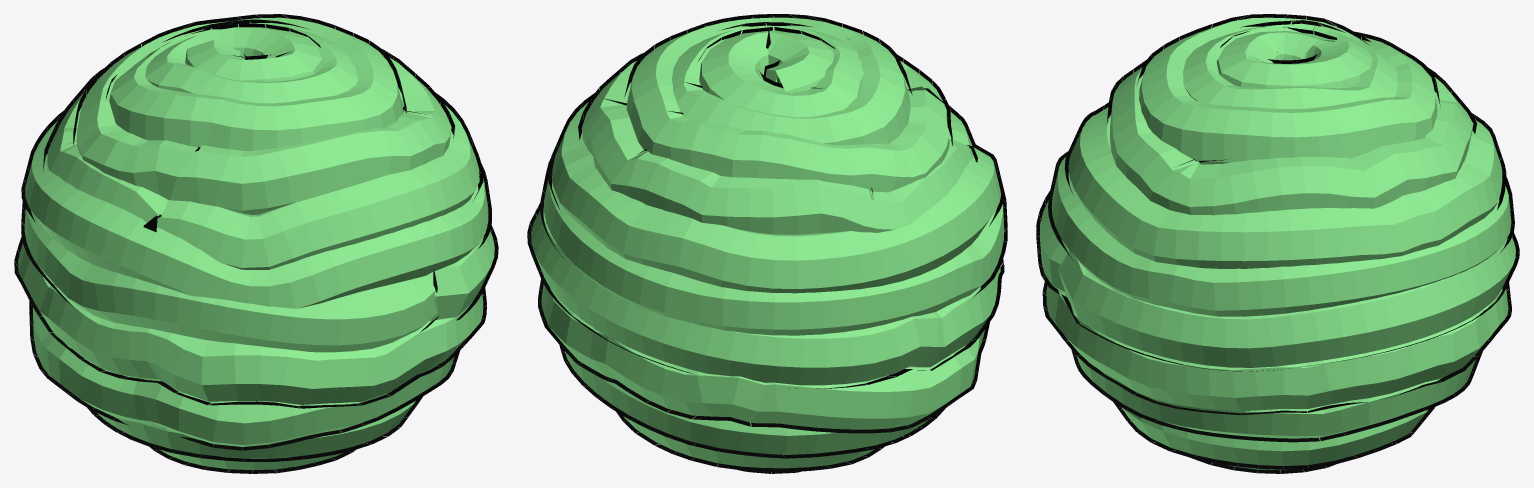
The model's file is Enemy3.fbx.
3 views of the same model, side by side, from view 1: azimuth 30°, elevation 25°; view 2: azimuth 150°, elevation 25°; view 3: azimuth 270°, elevation 25° (orthographic).
Parts seen in each view (by area): view 1: Cylinder.001; view 2: Cylinder.001; view 3: Cylinder.001.
Part boxes in pixels (left/top/right/bottom): Cylinder.001: left=14, top=14, right=498, bottom=473; Cylinder.001: left=527, top=14, right=1007, bottom=473; Cylinder.001: left=1036, top=14, right=1519, bottom=473.
Bounding box in the file's own units: 252 × 237 × 255.
